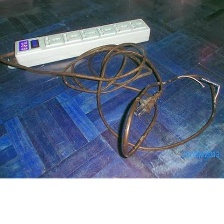three_eye_plug: (8, 14, 156, 70)
